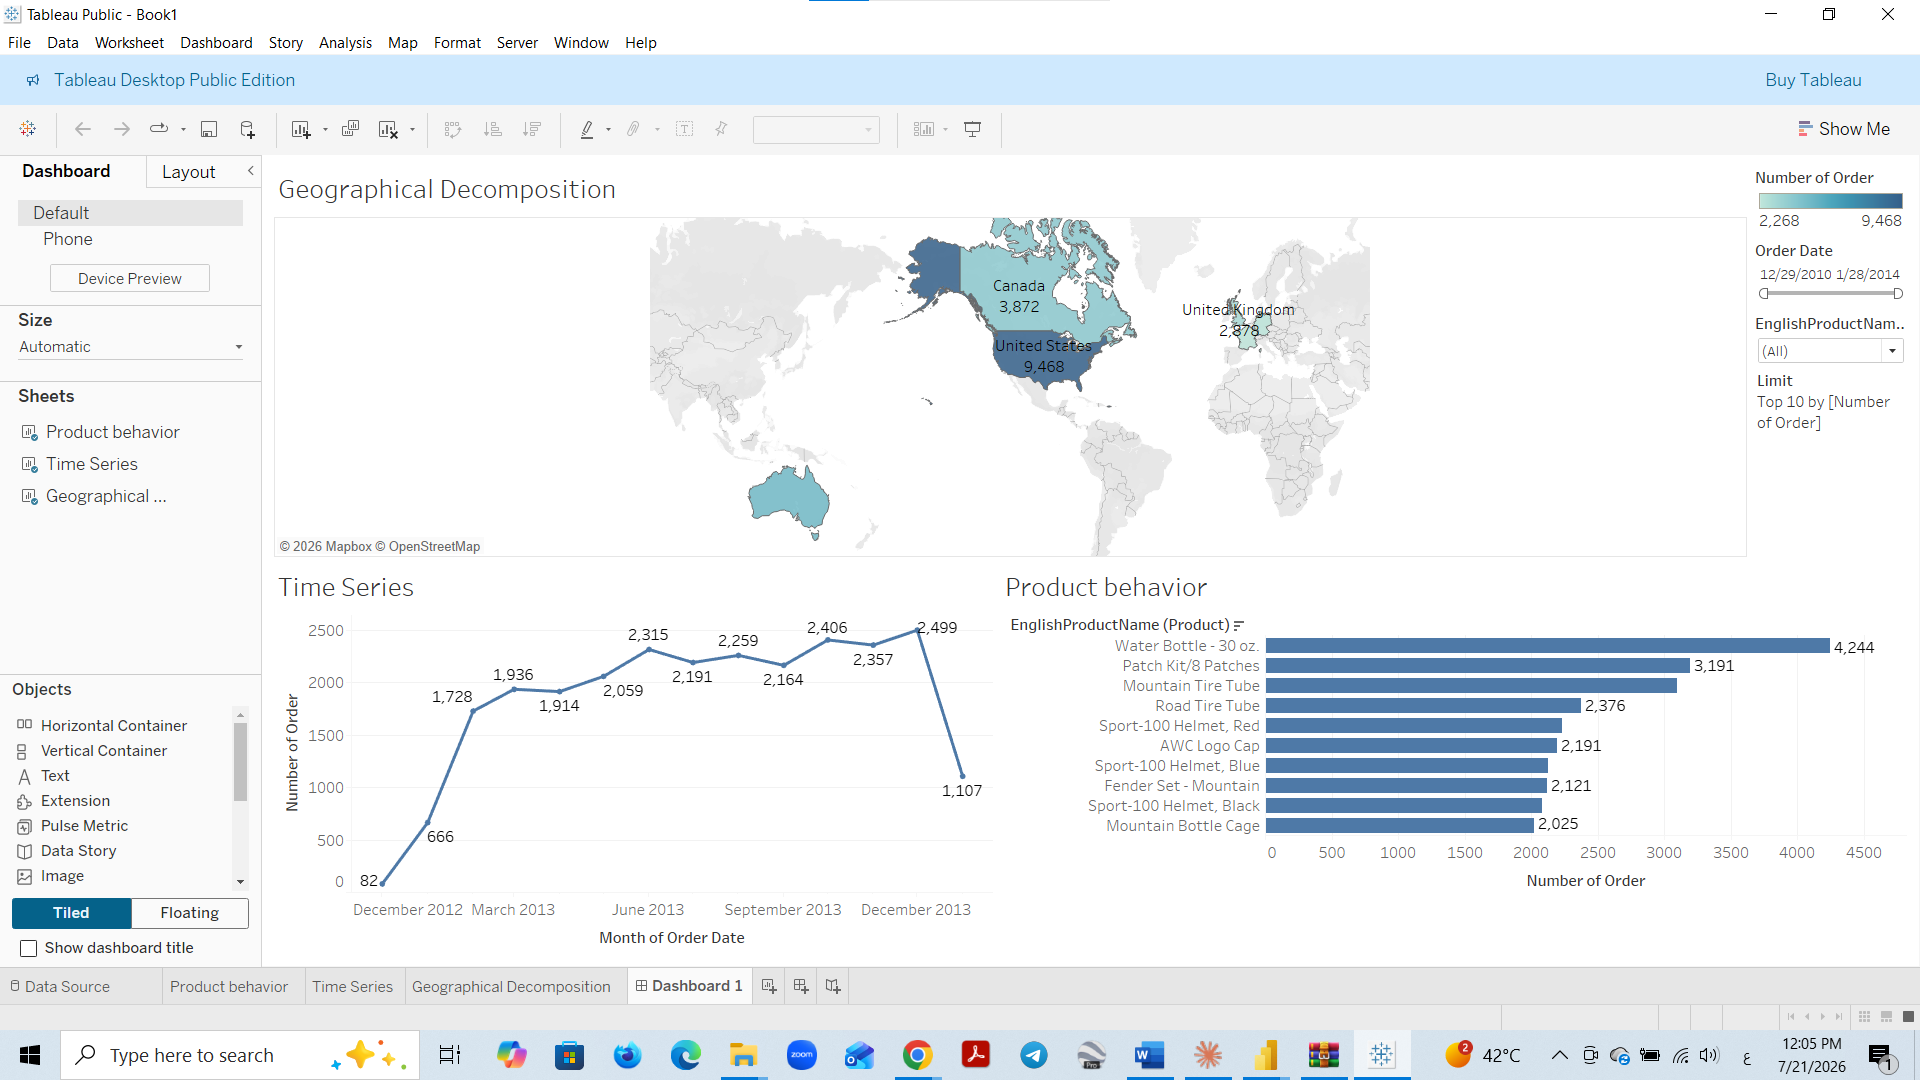

What the dashboard file says about the page in this screenshot:
{"tool":"tableau","page":{"name":"Dashboard 1","canvas":[1000,1000],"units":"permille","ordinal":0},"visuals":[{"type":"worksheet","title":"Geographical Decomposition","mark":"Automatic","box":[4.8,9.9,893.8,490.1]},{"type":"legend","title":"Geographical Decomposition","param":"[federated.1gvndwq1npgjlr12ruib219lwlum].[usr:Calculation_1559089916396199936:qk","box":[898.6,9.9,96.6,90]},{"type":"filter","title":"Time Series","param":"[federated.1gvndwq1npgjlr12ruib219lwlum].[none:OrderDate:qk]","box":[898.6,99.9,96.6,90]},{"type":"filter","title":"Time Series","param":"[federated.1gvndwq1npgjlr12ruib219lwlum].[none:EnglishProductName (Product):nk]","box":[898.6,189.9,96.6,162.8]},{"type":"worksheet","title":"Time Series","mark":"Automatic","rows":["Calculation_1559089916396199936"],"cols":["OrderDate"],"box":[4.8,500,438.7,490.1]},{"type":"worksheet","title":"Product behavior ","mark":"Automatic","rows":["EnglishProductName (Product)"],"cols":["Calculation_1559089916396199936"],"box":[443.6,500,551.6,490.1]}]}

Visuals, with their boxes on the dashboard's canvas, which has no fixed pixel size, in thousandths of its width and height (x1, y1, x2, y2). These are canvas units, not pixel positions in the 1920x1080 screenshot, which may show the page scaled, cropped or inside an application window:
"Geographical Decomposition" worksheet: detection(5, 10, 899, 500)
"Geographical Decomposition" legend: detection(899, 10, 995, 100)
"Time Series" filter: detection(899, 100, 995, 190)
"Time Series" filter: detection(899, 190, 995, 353)
"Time Series" worksheet: detection(5, 500, 444, 990)
"Product behavior " worksheet: detection(444, 500, 995, 990)
